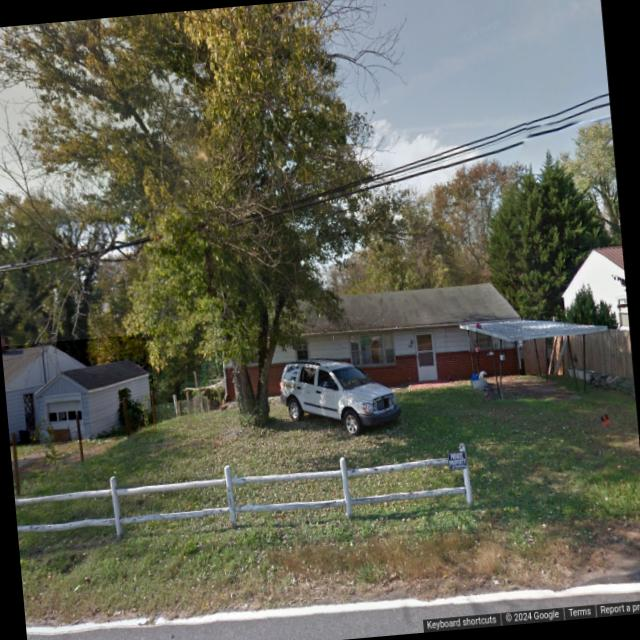House: (217, 280, 526, 400), (1, 334, 157, 446), (557, 244, 632, 338)
